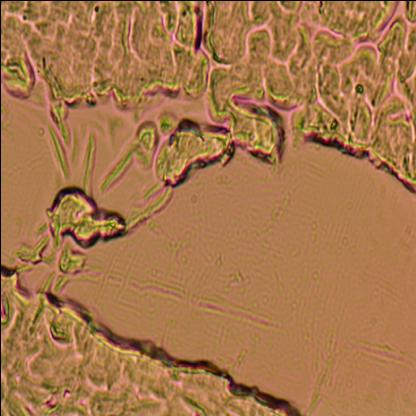Stage II: (0, 0, 416, 210), (0, 267, 279, 416)
